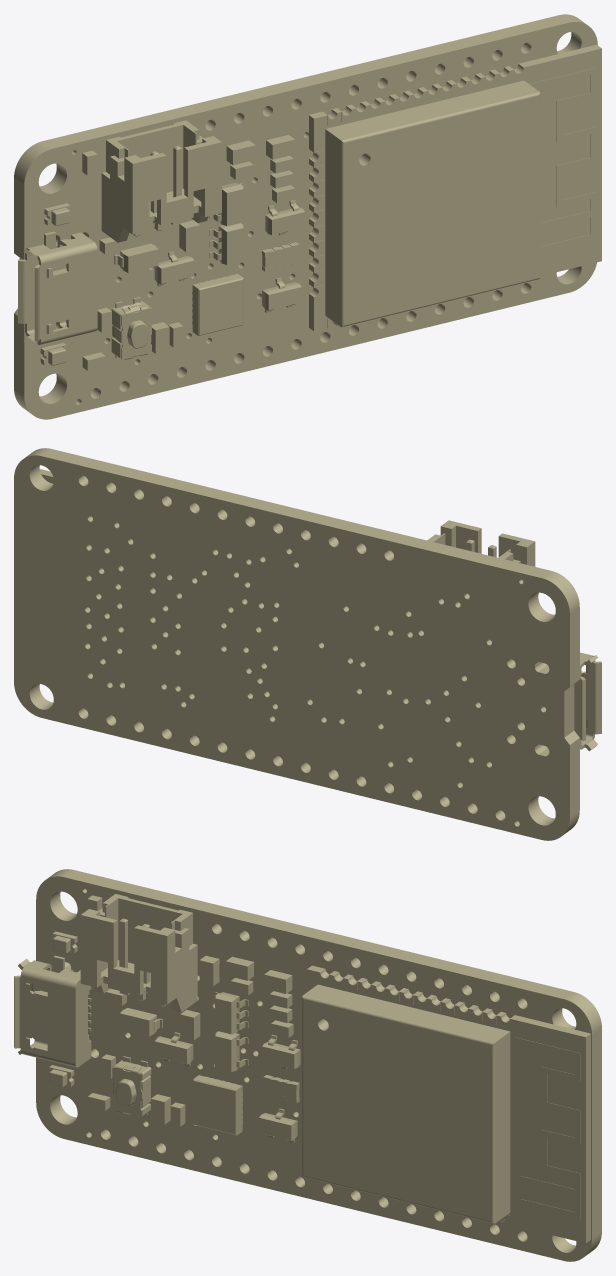
Rendered from Adafruit_Feather_HUZZAH32_ESP32.glb.
3 renders of one model, top to bottom at view 1: azimuth 30°, elevation 25°; view 2: azimuth 150°, elevation 25°; view 3: azimuth 330°, elevation 25°, orthographic. The views are drawn at different scales.
Visible parts, largest first — view 1: <STL_BINARY>; view 2: <STL_BINARY>; view 3: <STL_BINARY>.
Part boxes in pixels (x1,y1,x2,y2): <STL_BINARY>: [14, 14, 601, 419]; <STL_BINARY>: [14, 448, 601, 840]; <STL_BINARY>: [14, 869, 601, 1261].
Bounding box in the file's own units: 51.35 × 22.86 × 6.37.
